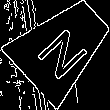N_NE: (31, 15, 94, 79)
